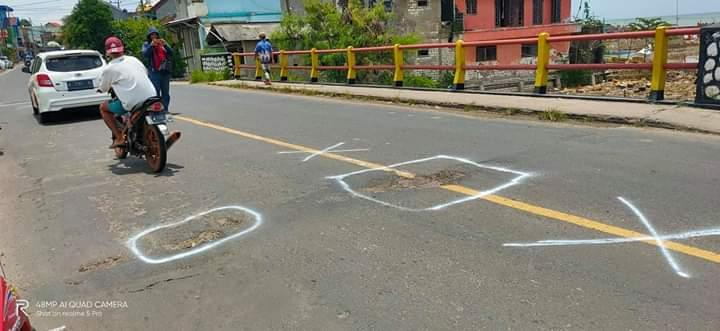Pothole: (77, 186, 258, 269), (322, 138, 482, 210)
